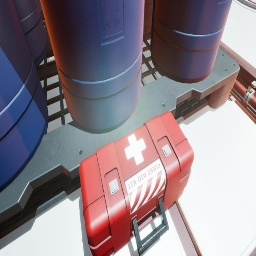FirstAidBox ,: (79, 111, 194, 256)
